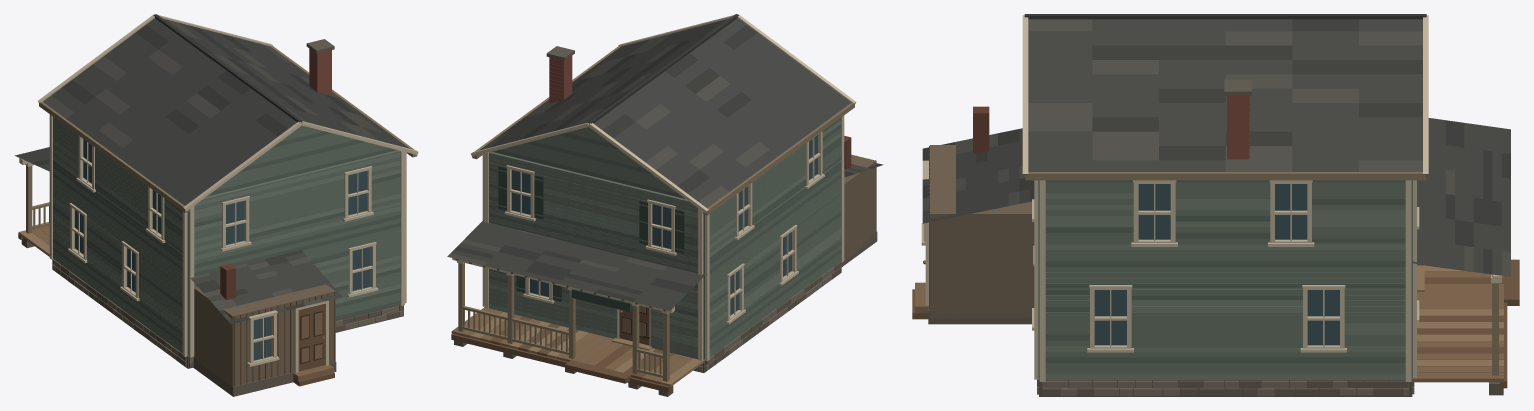
The model's file is hargrove_house_1890.glb.
3 views of the same model, side by side, from view 1: azimuth 30°, elevation 25°; view 2: azimuth 150°, elevation 25°; view 3: azimuth 270°, elevation 25° (orthographic). The views are drawn at different scales.
Visible parts, largest first — view 1: hargrove_house_1890; view 2: hargrove_house_1890; view 3: hargrove_house_1890.
Boxes of the visible parts, x1,y1,x2,y2 form: hargrove_house_1890: (15, 14, 418, 396); hargrove_house_1890: (447, 14, 883, 396); hargrove_house_1890: (912, 14, 1519, 396).
Size of the model in its own units: 8.61 by 7.94 by 14.11.
